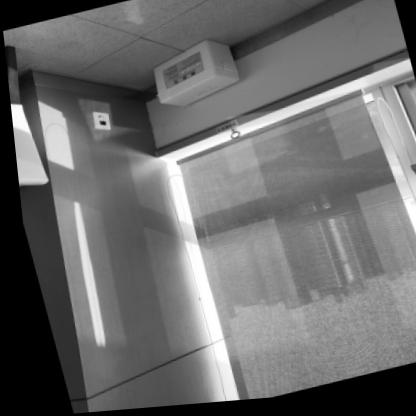DDL: (142, 36, 242, 115)
